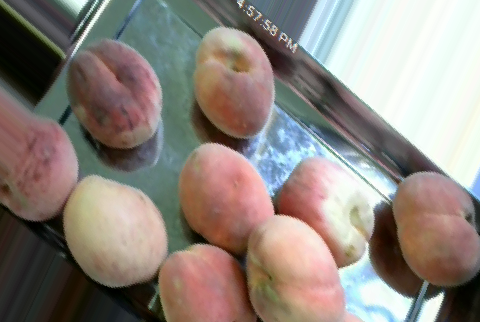Peach: (62, 174, 167, 286), (242, 215, 348, 321), (279, 157, 377, 268), (178, 143, 275, 255), (68, 39, 163, 148), (393, 171, 479, 287), (193, 27, 274, 135), (158, 243, 253, 321)
